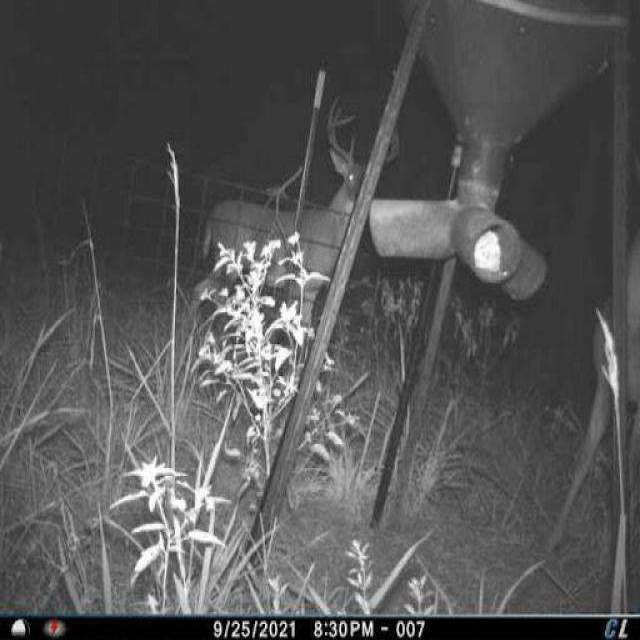deer: (195, 98, 388, 337)
